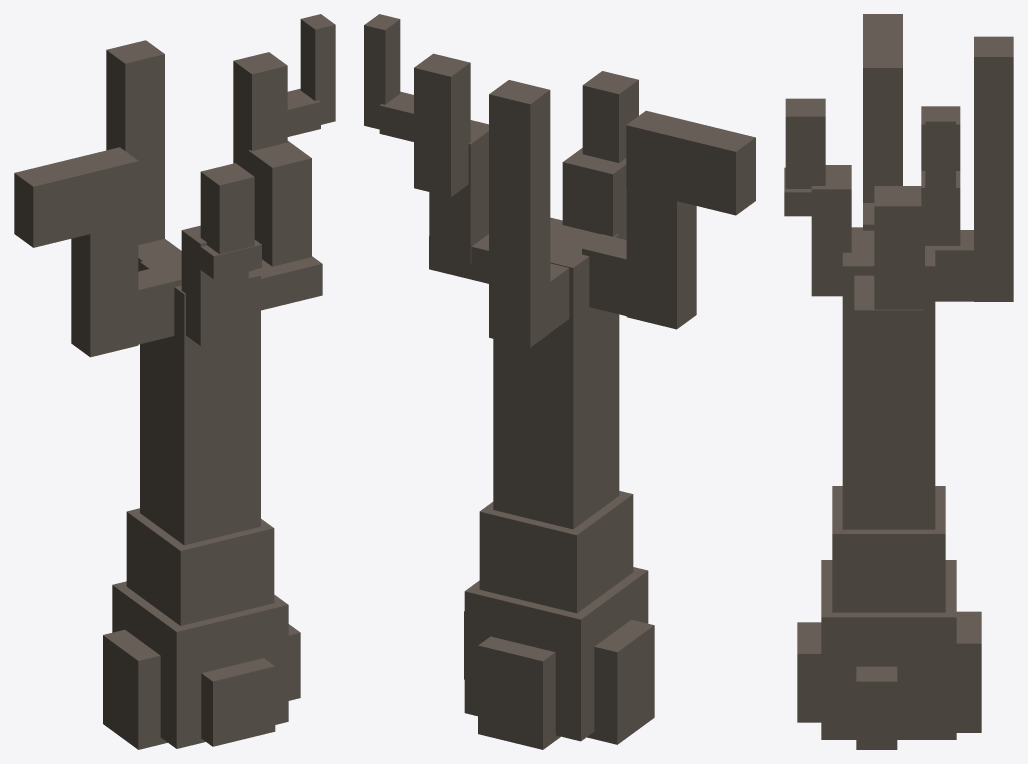
File: arvore_01.fbx
3 views of the same model, side by side, from view 1: azimuth 30°, elevation 25°; view 2: azimuth 150°, elevation 25°; view 3: azimuth 270°, elevation 25° (orthographic). The views are drawn at different scales.
Visible parts, largest first — view 1: pCube90; view 2: pCube90; view 3: pCube90.
Part boxes in pixels (left/top/right/bottom): pCube90: left=14, top=14, right=335, bottom=749; pCube90: left=364, top=14, right=755, bottom=749; pCube90: left=784, top=14, right=1013, bottom=749.
Bounding box in the file's own units: 6.06 × 11.23 × 3.46.
Materials: 1 (1 with a texture image).
